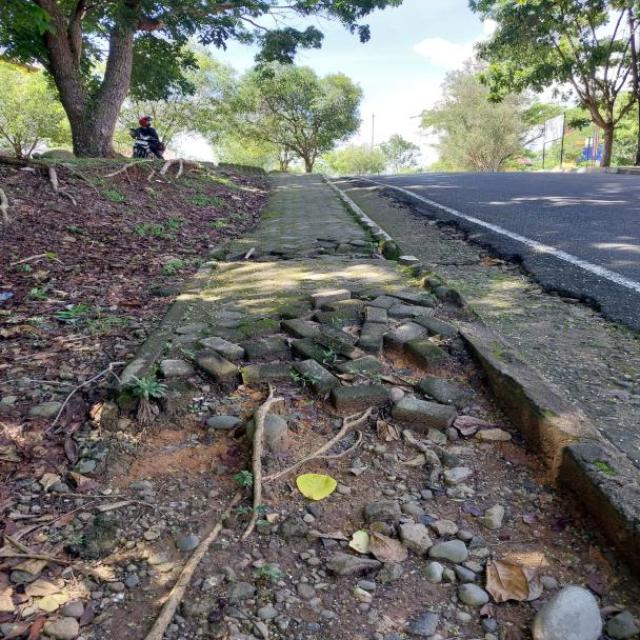stones ahead at: (150, 325, 468, 456)
